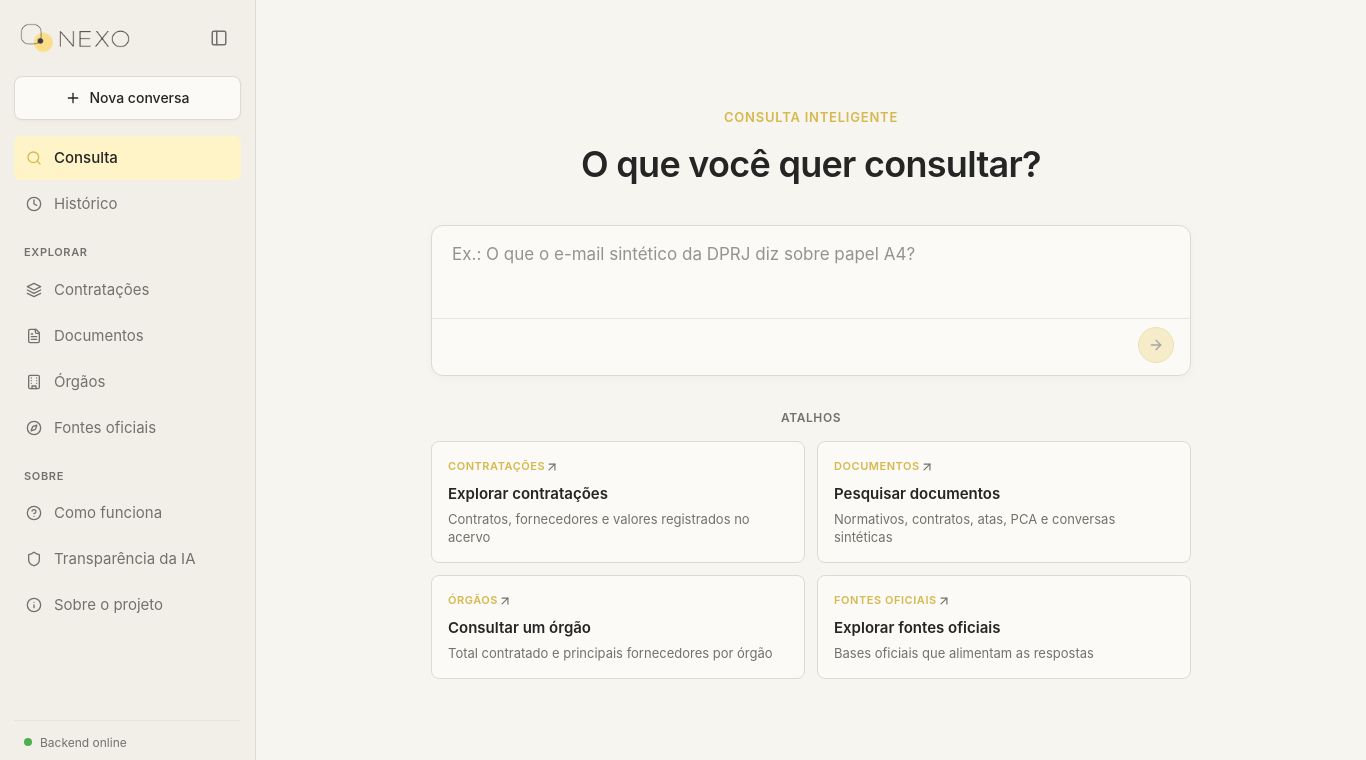
Test: Histórico das conversas › lista todas as sessões conhecidas e restaura a conversa selecionada inteira
Click the button "Histórico" at (128, 204), box [14,182,241,226]
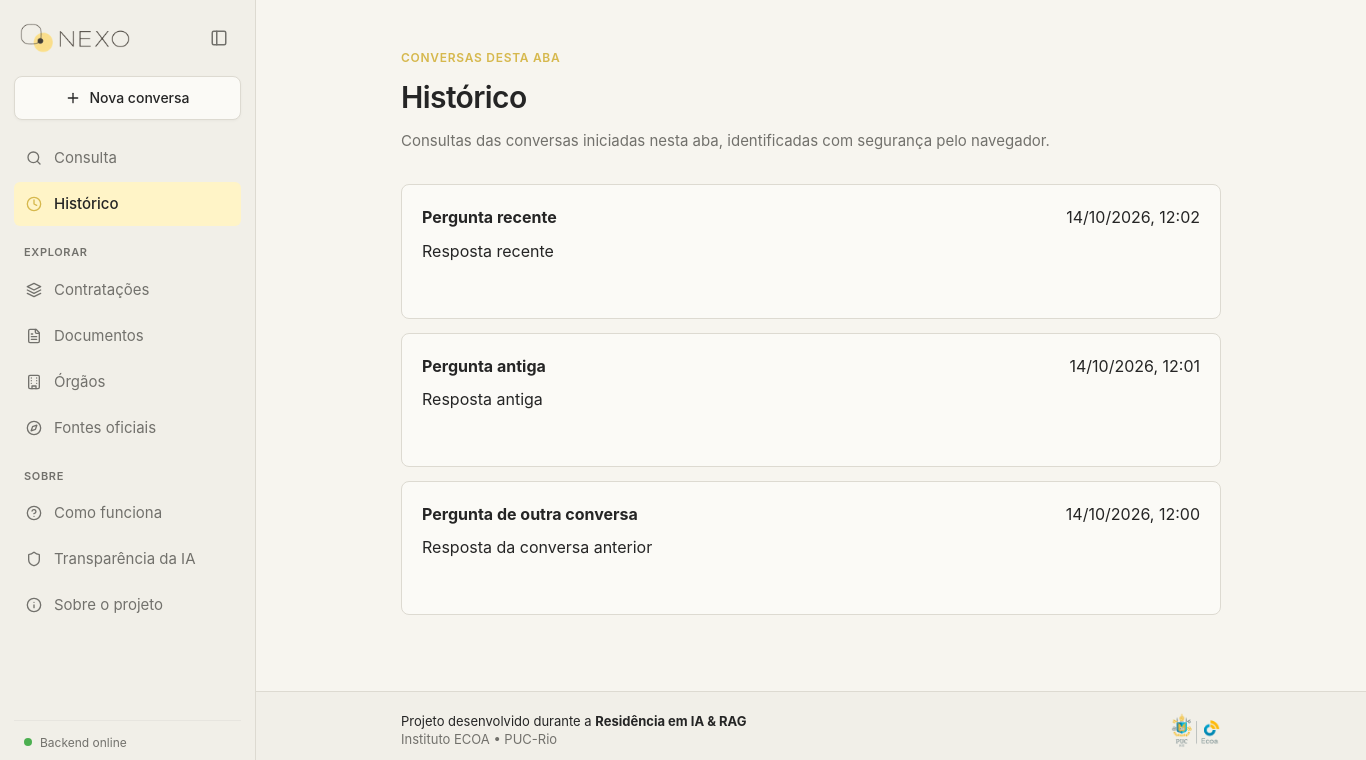
Check: the text "Resposta da conversa anterior" is shown, box [422,537,652,557]
Check: the text "Resposta antiga" is shown, box [422,389,543,409]
Check: the text "Resposta recente" is shown, box [422,241,554,261]
Click the button with aria-label "Abrir conversa: Pergunta recente" at (489, 217), box [402,185,1220,318]
(page scrolled)
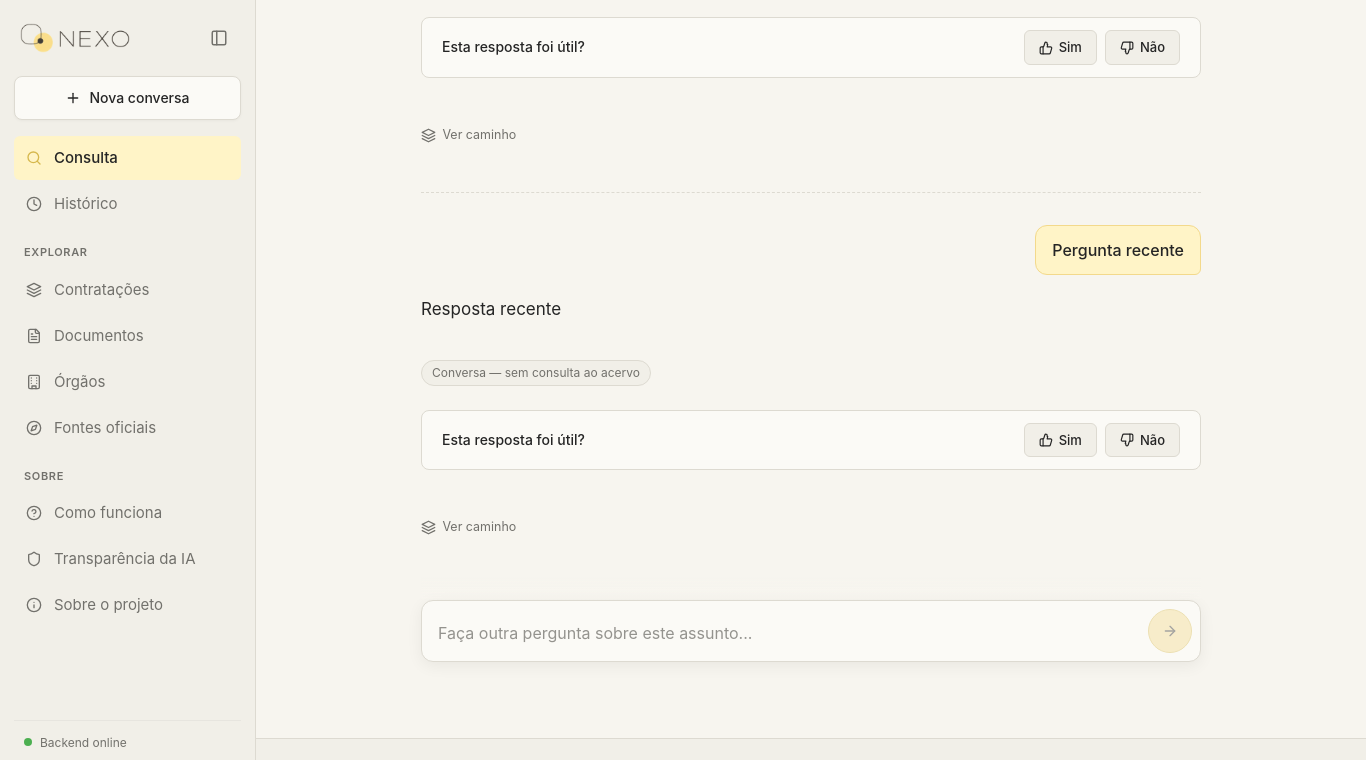
Check: the element named "Pergunta: Pergunta recente" is shown, box [421,225,1201,544]
